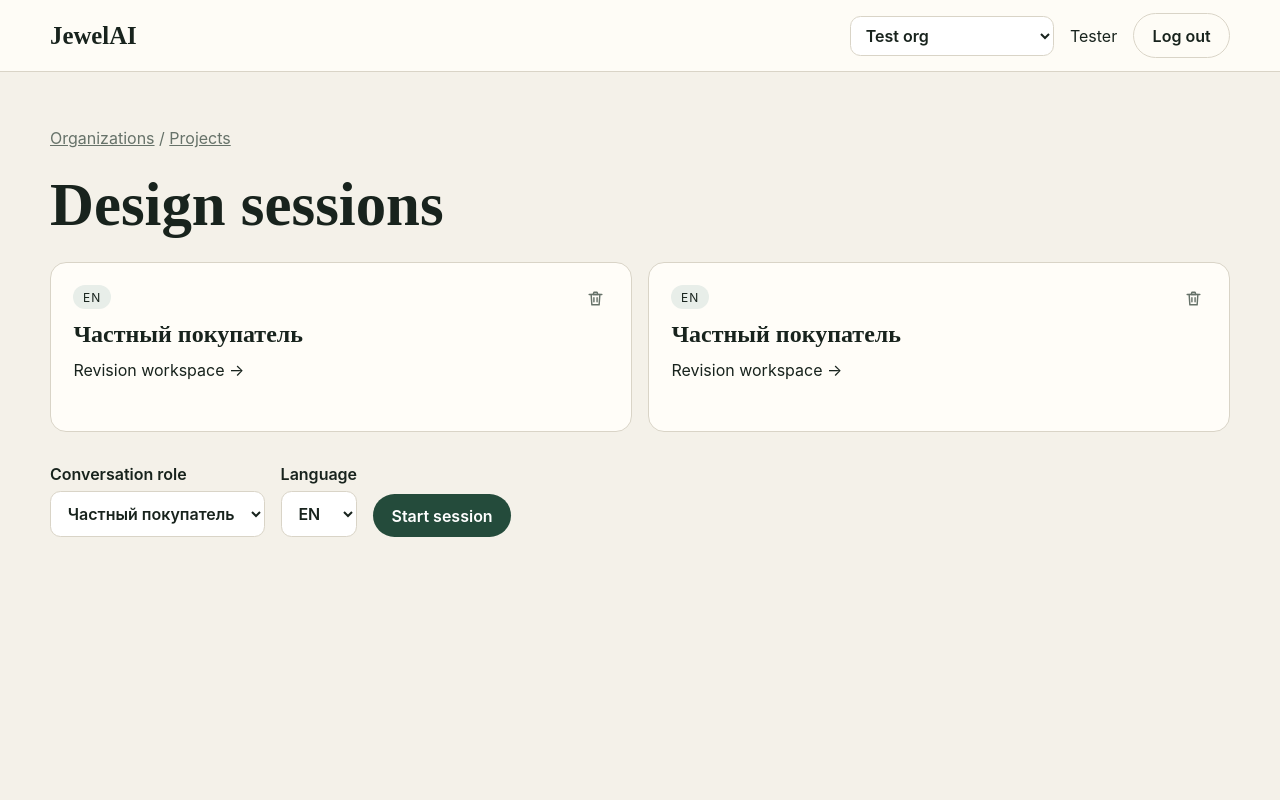
Test: design session deletion › cancels without a write or navigation, confirms exact session and removes only it
The width and height of the screenshot is (1280, 800).
Later steps or results of the test are not shown.
Step 1. Click the button named "Delete session session-one" → x=595, y=298, box x1=573 y1=276 x2=617 y2=320
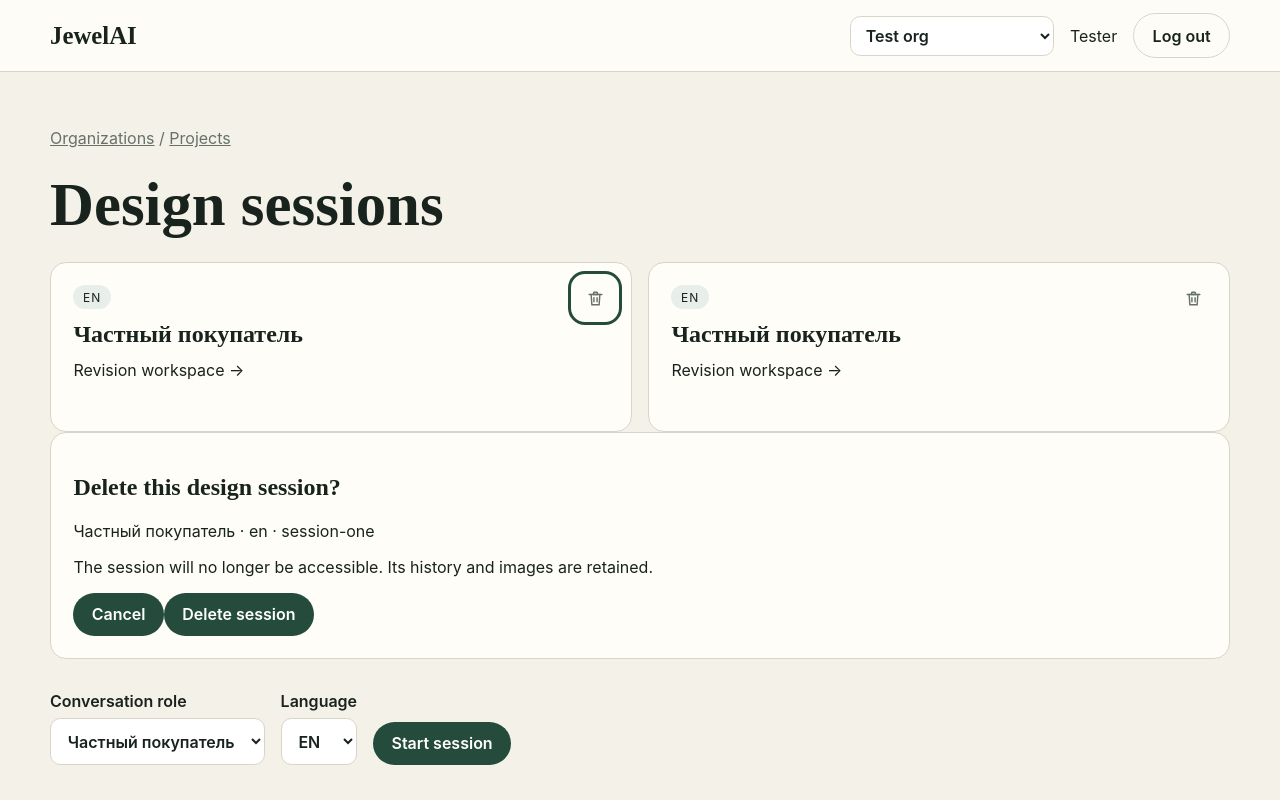
Expected: the dialog shows "session-one", x1=281 y1=521 x2=375 y2=541
